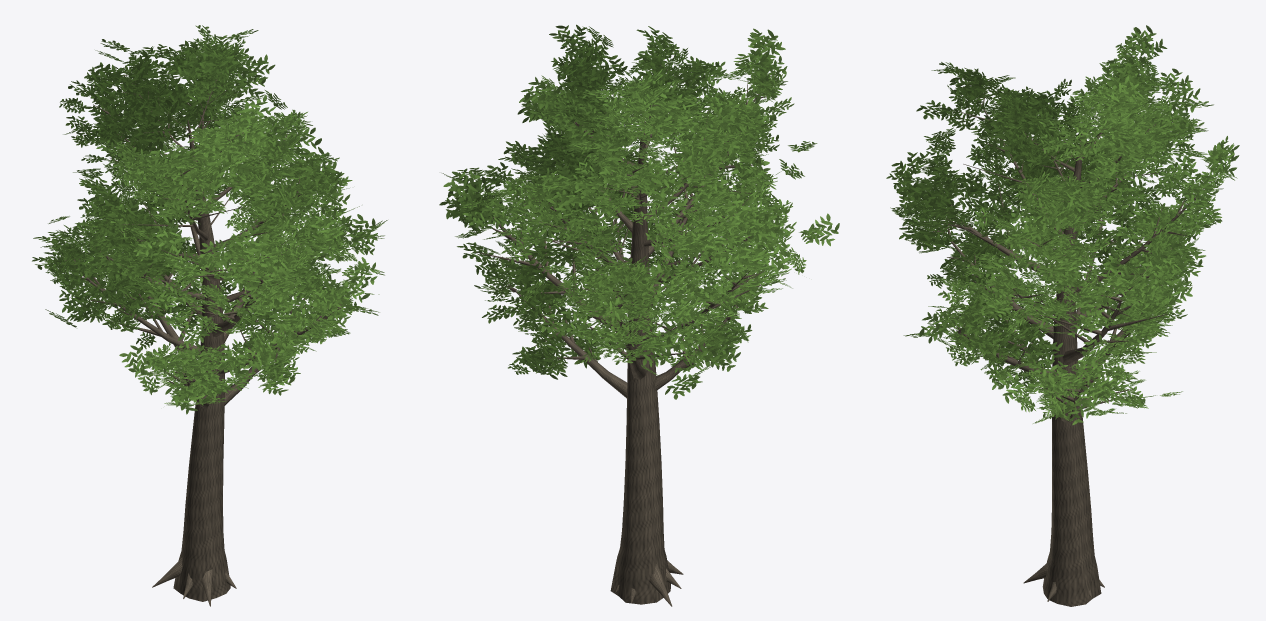
The model's file is BroadleafRound.glb.
3 views of the same model, side by side, from view 1: azimuth 30°, elevation 25°; view 2: azimuth 150°, elevation 25°; view 3: azimuth 270°, elevation 25° (orthographic). The views are drawn at different scales.
Visible parts, largest first — view 1: BroadleafRound; view 2: BroadleafRound; view 3: BroadleafRound.
Part boxes in pixels (x1,y1,x2,y2): BroadleafRound: [32, 25, 387, 606]; BroadleafRound: [439, 24, 839, 606]; BroadleafRound: [886, 25, 1239, 606].
Size of the model in its own units: 10.43 by 16.43 by 10.12.
Materials: 2 (2 with a texture image).
